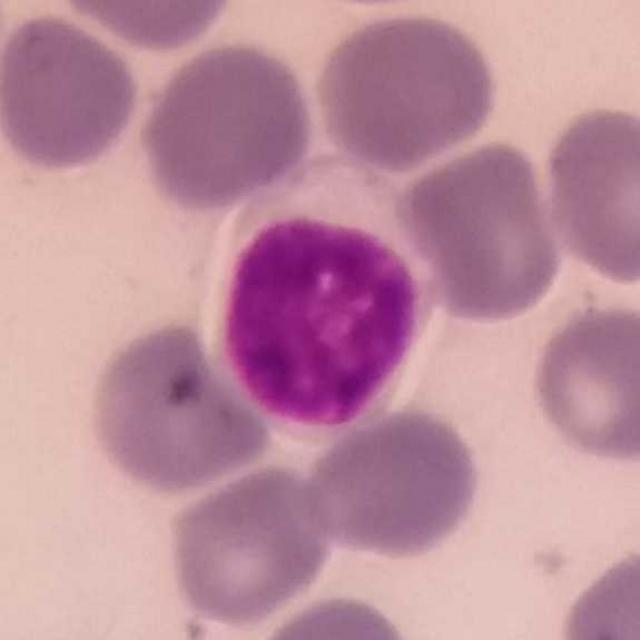Lymphocyte: (203, 151, 432, 434)
RBC: (81, 316, 275, 499), (392, 135, 568, 327), (308, 7, 503, 174), (134, 37, 320, 211), (296, 404, 488, 562), (162, 460, 338, 630), (0, 9, 145, 177), (524, 295, 640, 469), (536, 100, 640, 290), (47, 0, 241, 53), (245, 589, 421, 640), (552, 542, 640, 640)
